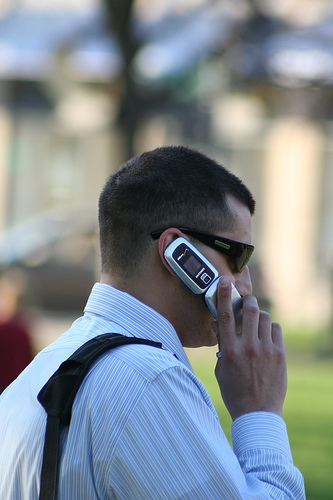phone: (159, 229, 250, 323)
